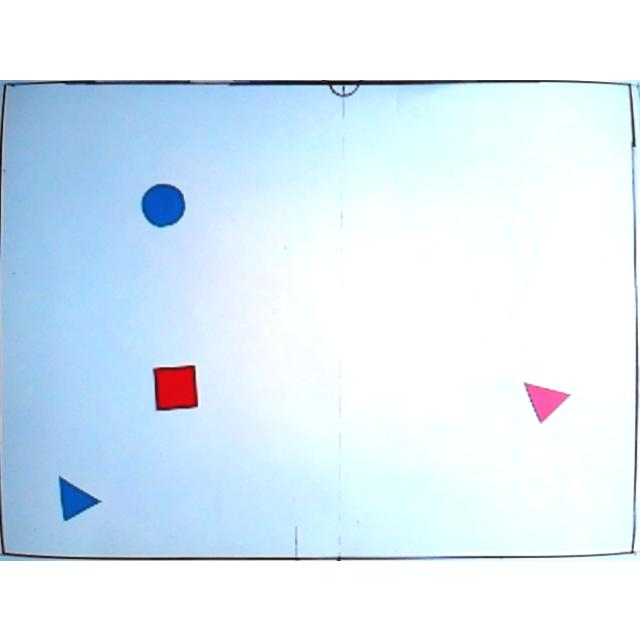blueCircle: (139, 182, 189, 230)
blueTriangle: (57, 474, 101, 520)
pinkTriangle: (524, 377, 570, 423)
redSquare: (151, 364, 201, 410)
